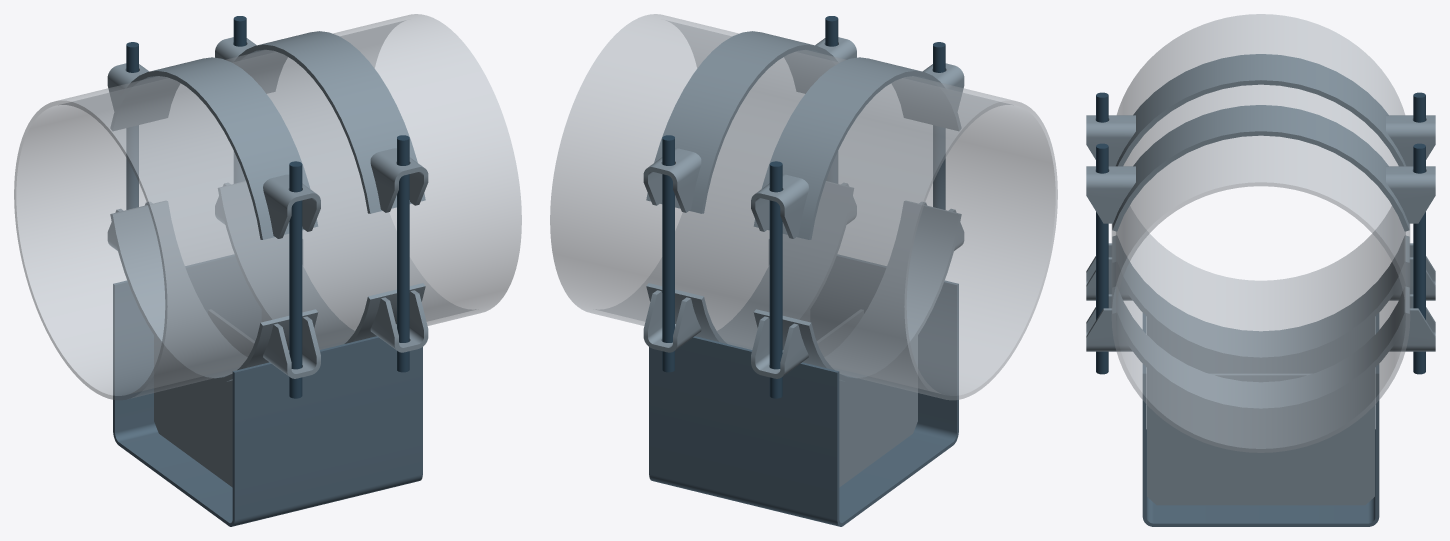
The model's file is TS-627.00.000-023-opora-dn480-H200-L340.glb.
3 views of the same model, side by side, from view 1: azimuth 30°, elevation 25°; view 2: azimuth 150°, elevation 25°; view 3: azimuth 270°, elevation 25° (orthographic). The views are drawn at different scales.
Parts seen in each view (by area): view 1: truba, skoba_0, podushka_4, bugel0_podushka_0, bugel1_podushka_0, podushka_5, rebro4_1, shpilka_0_-1, shpilka_1_-1, bugel1_ushko_2, bugel0_ushko_2, ushko_9 (+5 smaller); view 2: truba, skoba_0, podushka_4, bugel0_podushka_0, bugel1_podushka_0, podushka_5, rebro4_1, shpilka_0_1, shpilka_1_1, bugel1_ushko_1, bugel0_ushko_1, ushko_8 (+5 smaller); view 3: truba, rebro4_2, podushka_5, podushka_4, bugel1_podushka_0, bugel0_podushka_0, skoba_0, rebro4_1, bugel1_ushko_1, bugel1_ushko_2, shpilka_1_1, shpilka_1_-1 (+7 smaller).
Boxes of the visible parts, box(x1,y1,x2,y2) form: truba: box(14, 14, 521, 400); skoba_0: box(113, 239, 422, 526); podushka_4: box(110, 201, 318, 383); bugel0_podushka_0: box(111, 57, 318, 239); bugel1_podushka_0: box(233, 31, 425, 213); podushka_5: box(218, 181, 425, 349); rebro4_1: box(154, 336, 232, 487); shpilka_0_-1: box(289, 161, 302, 398); shpilka_1_-1: box(397, 135, 409, 372); bugel1_ushko_2: box(370, 148, 428, 212); bugel0_ushko_2: box(263, 174, 320, 238); ushko_9: box(370, 290, 428, 352); truba: box(550, 14, 1057, 400); skoba_0: box(649, 239, 958, 526); podushka_4: box(753, 201, 961, 383); bugel0_podushka_0: box(753, 57, 960, 239); bugel1_podushka_0: box(646, 31, 838, 213); podushka_5: box(646, 181, 853, 349); rebro4_1: box(839, 336, 917, 487); shpilka_0_1: box(769, 161, 782, 398); shpilka_1_1: box(662, 135, 674, 372); bugel1_ushko_1: box(643, 148, 701, 212); bugel0_ushko_1: box(751, 174, 808, 238); ushko_8: box(643, 290, 701, 352); truba: box(1111, 14, 1410, 452); rebro4_2: box(1147, 368, 1374, 505); podushka_5: box(1112, 286, 1409, 412); podushka_4: box(1112, 235, 1409, 361); bugel1_podushka_0: box(1112, 105, 1409, 231); bugel0_podushka_0: box(1116, 54, 1405, 166); skoba_0: box(1142, 313, 1379, 526); rebro4_1: box(1147, 317, 1374, 373); bugel1_ushko_1: box(1386, 166, 1435, 223); bugel1_ushko_2: box(1086, 166, 1135, 223); shpilka_1_1: box(1413, 143, 1425, 374); shpilka_1_-1: box(1096, 143, 1108, 374).
Bounding box in the file's own units: 640 × 691 × 562.
